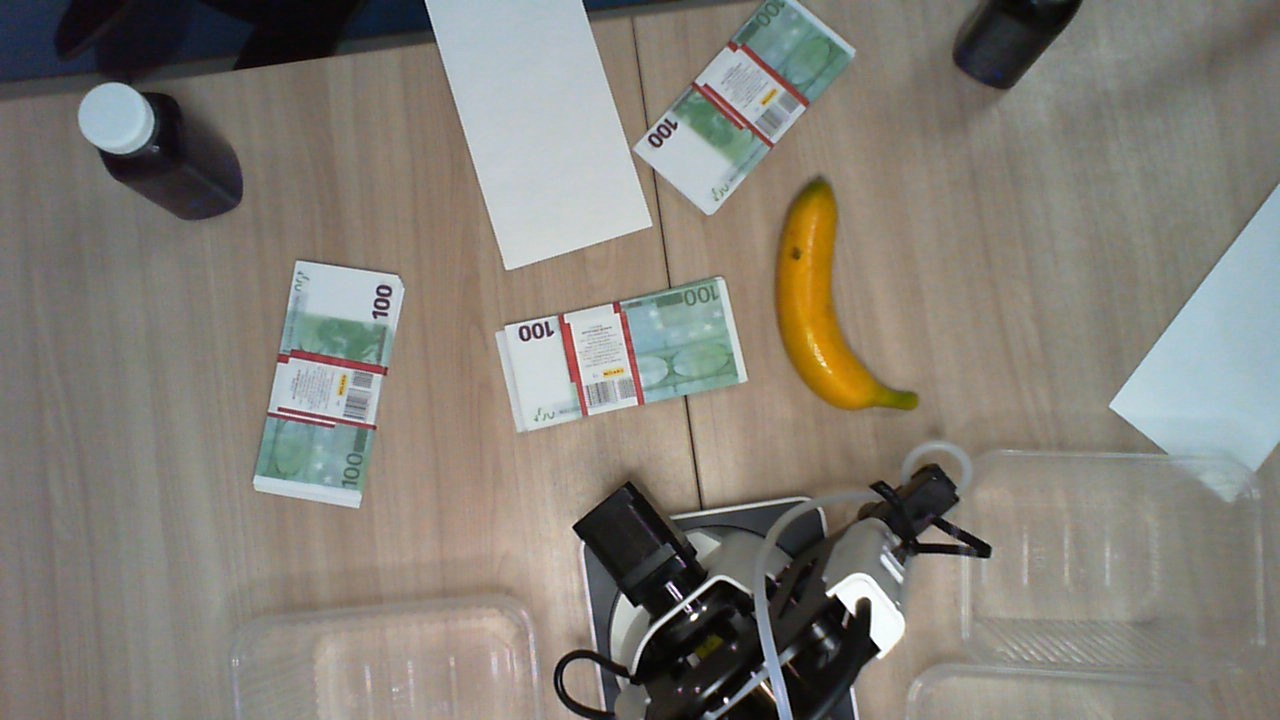banana: (774, 179, 922, 408)
bottle: (73, 80, 180, 180), (996, 1, 1089, 34)
convert: (423, 1, 656, 265), (1109, 182, 1278, 498)
money: (638, 1, 856, 212), (494, 274, 749, 437), (250, 260, 406, 509)
